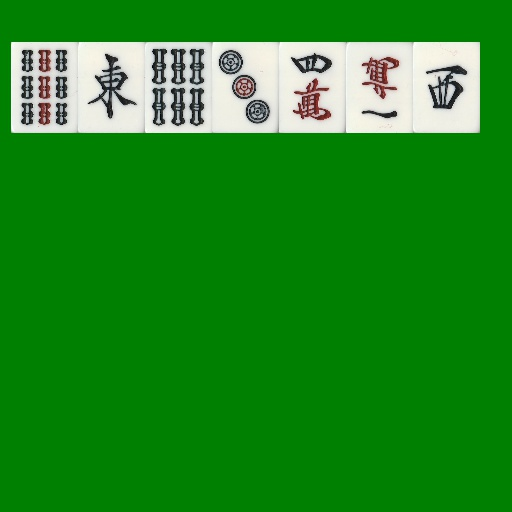1m: (346, 42, 413, 133)
3p: (212, 42, 279, 133)
4m: (279, 42, 346, 133)
6s: (145, 42, 212, 133)
9s: (11, 42, 78, 133)
east: (78, 42, 145, 133)
west: (413, 42, 480, 133)
